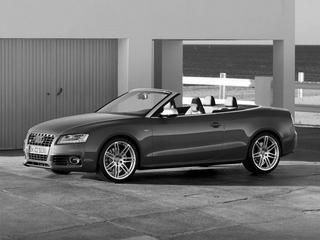car: (25, 89, 297, 185)
